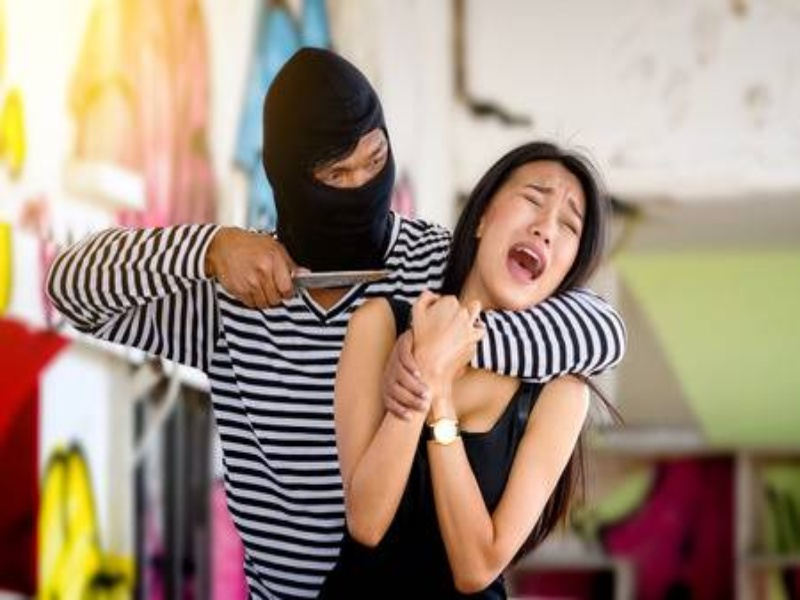balaclava: (262, 47, 395, 268)
hand: (214, 229, 310, 309), (411, 293, 475, 370), (380, 332, 429, 421)
knife: (285, 271, 390, 287)
person: (44, 48, 451, 600), (335, 142, 591, 597)
